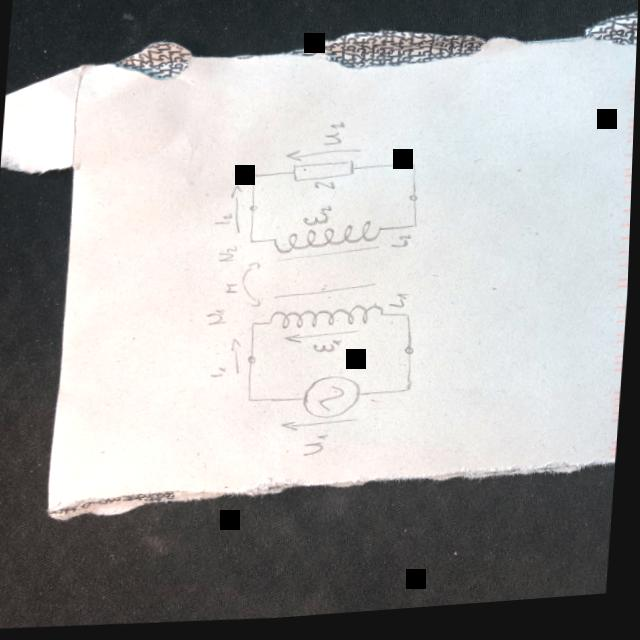junction: (403, 317, 415, 327), (406, 166, 418, 176), (249, 175, 261, 185), (247, 399, 259, 408), (403, 391, 415, 400), (409, 228, 421, 237), (249, 325, 261, 333), (248, 242, 258, 250)
resistor: (290, 161, 358, 191)
source: (301, 377, 363, 427)
text: (319, 125, 347, 154), (303, 436, 332, 463), (301, 209, 333, 232), (312, 342, 345, 360), (206, 311, 229, 331), (389, 238, 414, 256), (388, 298, 411, 316), (217, 249, 239, 267), (213, 215, 234, 232), (311, 183, 338, 196), (210, 367, 230, 383), (224, 286, 240, 299)
transformer: (265, 219, 392, 340)
